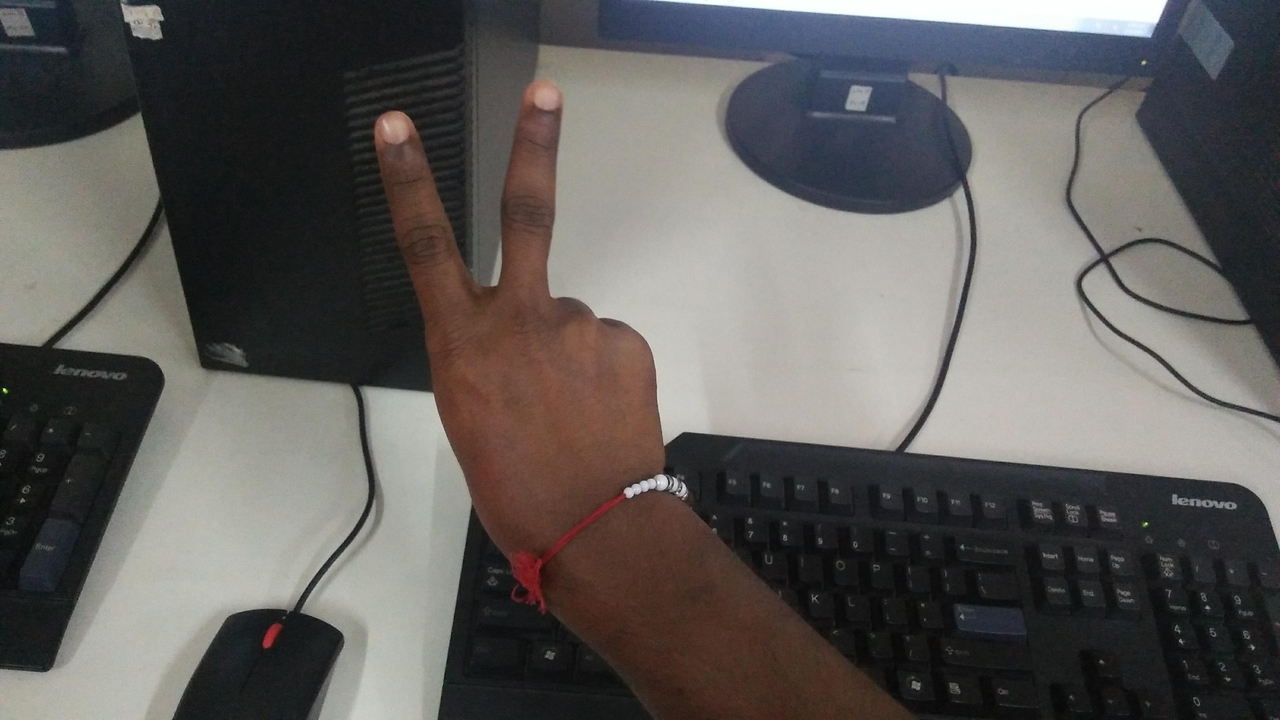fingertip: (358, 100, 428, 158), (510, 68, 570, 122)
